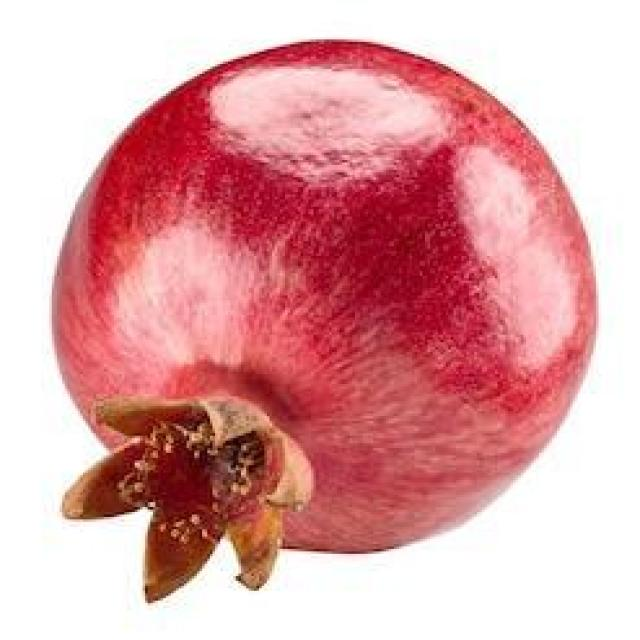Pomegranate: (54, 36, 604, 608)
